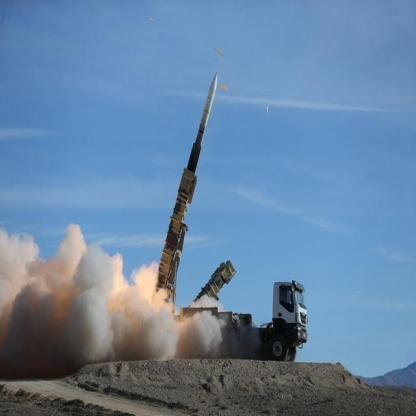MIL_TBM: (186, 67, 221, 187)
